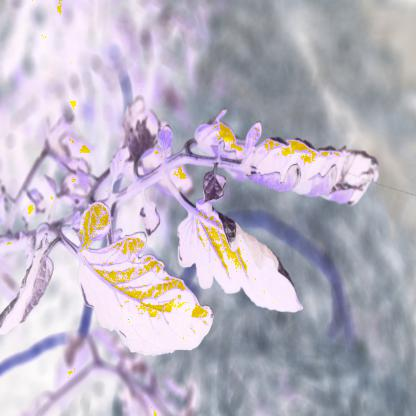tomato leaf: (67, 225, 214, 362), (222, 115, 386, 211), (181, 197, 302, 316)
